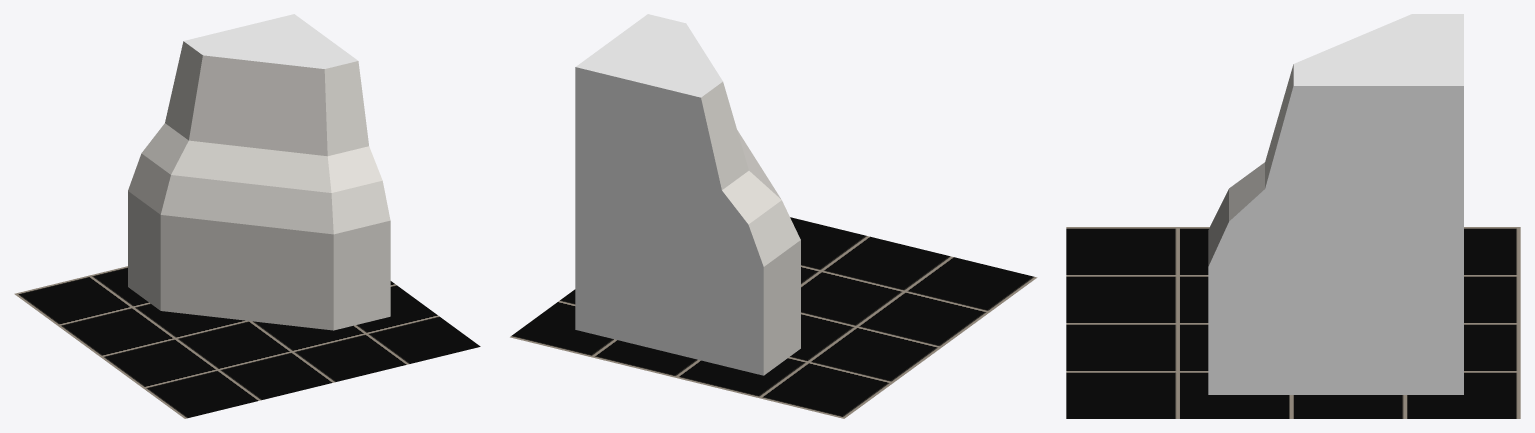
The model's file is Basic_Curve_Outer_2x2_Wide_Base.glb.
The picture shows the model from 3 angles, left to right: view 1: azimuth 30°, elevation 25°; view 2: azimuth 150°, elevation 25°; view 3: azimuth 270°, elevation 25°; orthographic projection. The views are drawn at different scales.
Parts seen in each view (by area): view 1: Basic_Curve_Outer_2x2_Wide_Base, Floor; view 2: Basic_Curve_Outer_2x2_Wide_Base, Floor; view 3: Basic_Curve_Outer_2x2_Wide_Base, Floor.
Part boxes in pixels (bbox=[...]): Basic_Curve_Outer_2x2_Wide_Base: bbox=[128, 14, 390, 330]; Floor: bbox=[14, 266, 480, 418]; Basic_Curve_Outer_2x2_Wide_Base: bbox=[575, 14, 800, 375]; Floor: bbox=[510, 217, 1037, 418]; Basic_Curve_Outer_2x2_Wide_Base: bbox=[1208, 14, 1463, 394]; Floor: bbox=[1066, 227, 1520, 418].
Size of the model in its own units: 400 by 300 by 400.
Materials: 3 (1 with a texture image).
